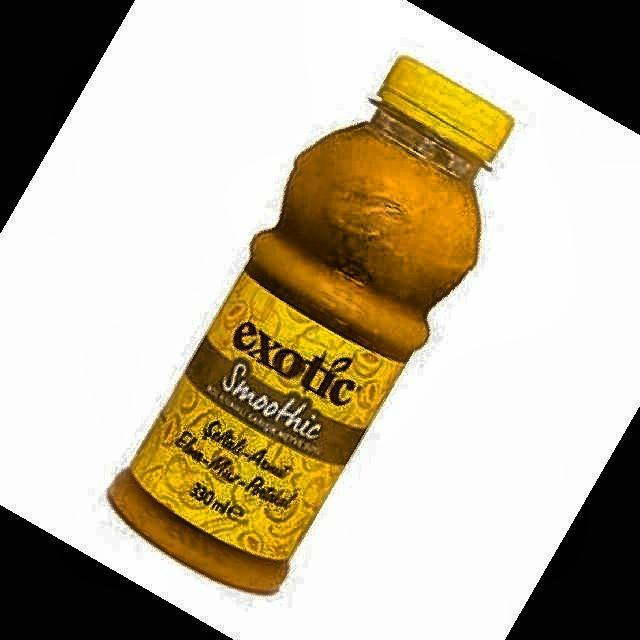plastic: (109, 56, 512, 592)
